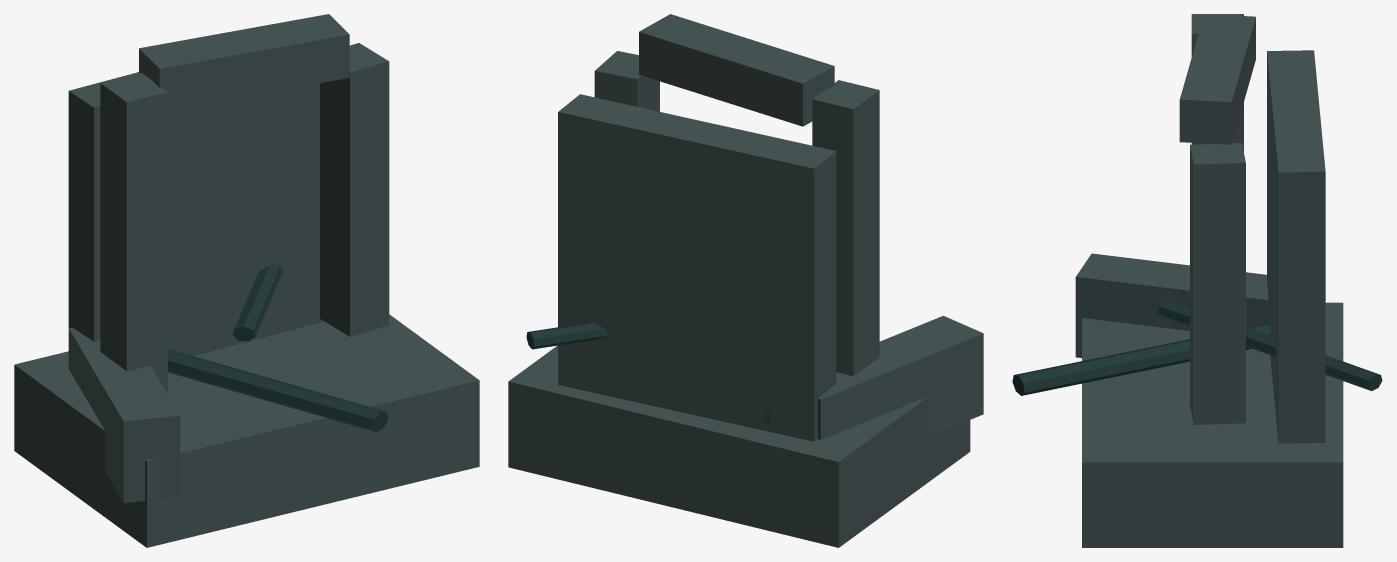
Rendered from df_v2_broken_stone_arch_a.glb.
3 renders of one model, left to right at view 1: azimuth 30°, elevation 25°; view 2: azimuth 150°, elevation 25°; view 3: azimuth 270°, elevation 25°, orthographic.
Parts seen in each view (by area): view 1: broken_plinth, rear_slab, left_arch, right_arch, broken_arch_top, fallen_side_slab, overgrown_root_0, overgrown_root_1; view 2: rear_slab, broken_plinth, left_arch, fallen_side_slab, broken_arch_top, right_arch, overgrown_root_1; view 3: broken_plinth, rear_slab, right_arch, fallen_side_slab, broken_arch_top, overgrown_root_0, overgrown_root_1, left_arch.
Part boxes in pixels (x1=…): broken_plinth: x1=14, y1=314, x2=479, y2=547; rear_slab: x1=68, y1=72, x2=323, y2=355; left_arch: x1=100, y1=73, x2=167, y2=393; right_arch: x1=320, y1=43, x2=389, y2=336; broken_arch_top: x1=139, y1=14, x2=349, y2=110; fallen_side_slab: x1=68, y1=327, x2=180, y2=502; overgrown_root_0: x1=168, y1=349, x2=388, y2=432; overgrown_root_1: x1=232, y1=265, x2=282, y2=341; rear_slab: x1=558, y1=94, x2=836, y2=441; broken_plinth: x1=508, y1=345, x2=970, y2=547; left_arch: x1=812, y1=80, x2=879, y2=376; fallen_side_slab: x1=818, y1=315, x2=983, y2=439; broken_arch_top: x1=639, y1=14, x2=834, y2=126; right_arch: x1=594, y1=51, x2=659, y2=111; overgrown_root_1: x1=526, y1=323, x2=607, y2=349; broken_plinth: x1=1082, y1=302, x2=1343, y2=547; rear_slab: x1=1267, y1=50, x2=1325, y2=443; right_arch: x1=1190, y1=143, x2=1245, y2=424; fallen_side_slab: x1=1075, y1=253, x2=1268, y2=357; broken_arch_top: x1=1179, y1=14, x2=1255, y2=144; overgrown_root_0: x1=1012, y1=323, x2=1269, y2=395; overgrown_root_1: x1=1158, y1=300, x2=1382, y2=390; left_arch: x1=1191, y1=14, x2=1243, y2=151.
Bounding box in the file's own units: 1.53 × 1.73 × 1.42.
